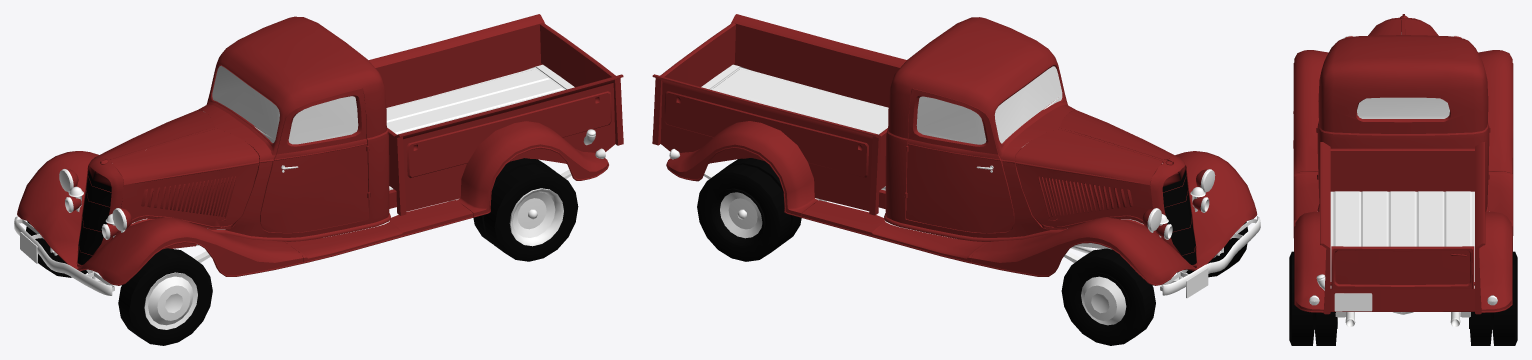
File: Ford_PickupTruck3.fbx
3 renders of one model, left to right at view 1: azimuth 30°, elevation 25°; view 2: azimuth 150°, elevation 25°; view 3: azimuth 270°, elevation 25°, orthographic. The views are drawn at different scales.
Parts seen in each view (by area): view 1: body, hood, door_left, wheel_02, fender_front_left, wheel_01, fender_rear_right, fender_front_right, bumper_front, headlight_right, headlight_left, wheel_04; view 2: body, hood, door_right, wheel_03, fender_front_right, wheel_04, fender_rear_left, fender_front_left, bumper_front, headlight_left, headlight_right, wheel_01; view 3: body, fender_front_right, fender_front_left, fender_rear_left, fender_rear_right, wheel_02, wheel_03, hood, numberplate_rear.
Boxes of the visible parts, x1=… form: body: x1=76, y1=14, x2=623, y2=267; hood: x1=96, y1=110, x2=259, y2=230; door_left: x1=260, y1=88, x2=370, y2=232; wheel_02: x1=473, y1=158, x2=578, y2=261; fender_front_left: x1=76, y1=217, x2=303, y2=285; wheel_01: x1=118, y1=248, x2=212, y2=345; fender_rear_right: x1=456, y1=121, x2=608, y2=217; fender_front_right: x1=17, y1=151, x2=98, y2=268; bumper_front: x1=14, y1=216, x2=114, y2=295; headlight_right: x1=59, y1=168, x2=83, y2=212; headlight_left: x1=101, y1=208, x2=131, y2=239; wheel_04: x1=26, y1=221, x2=87, y2=277; body: x1=652, y1=14, x2=1197, y2=267; hood: x1=1015, y1=110, x2=1178, y2=231; door_right: x1=904, y1=88, x2=1014, y2=233; wheel_03: x1=697, y1=158, x2=801, y2=261; fender_front_right: x1=971, y1=217, x2=1197, y2=285; wheel_04: x1=1061, y1=248, x2=1155, y2=345; fender_rear_left: x1=666, y1=121, x2=818, y2=217; fender_front_left: x1=1175, y1=151, x2=1257, y2=268; bumper_front: x1=1160, y1=216, x2=1260, y2=298; headlight_left: x1=1190, y1=169, x2=1215, y2=212; headlight_right: x1=1142, y1=208, x2=1172, y2=239; wheel_01: x1=1186, y1=222, x2=1247, y2=277; body: x1=1293, y1=14, x2=1513, y2=326; fender_front_right: x1=1478, y1=50, x2=1513, y2=178; fender_front_left: x1=1293, y1=50, x2=1328, y2=178; fender_rear_left: x1=1479, y1=211, x2=1512, y2=312; fender_rear_right: x1=1294, y1=211, x2=1326, y2=312; wheel_02: x1=1289, y1=251, x2=1337, y2=345; wheel_03: x1=1469, y1=251, x2=1517, y2=345; hood: x1=1368, y1=19, x2=1438, y2=35; numberplate_rear: x1=1334, y1=293, x2=1372, y2=311.
Bounding box in the file's own units: 499 × 189 × 186.
